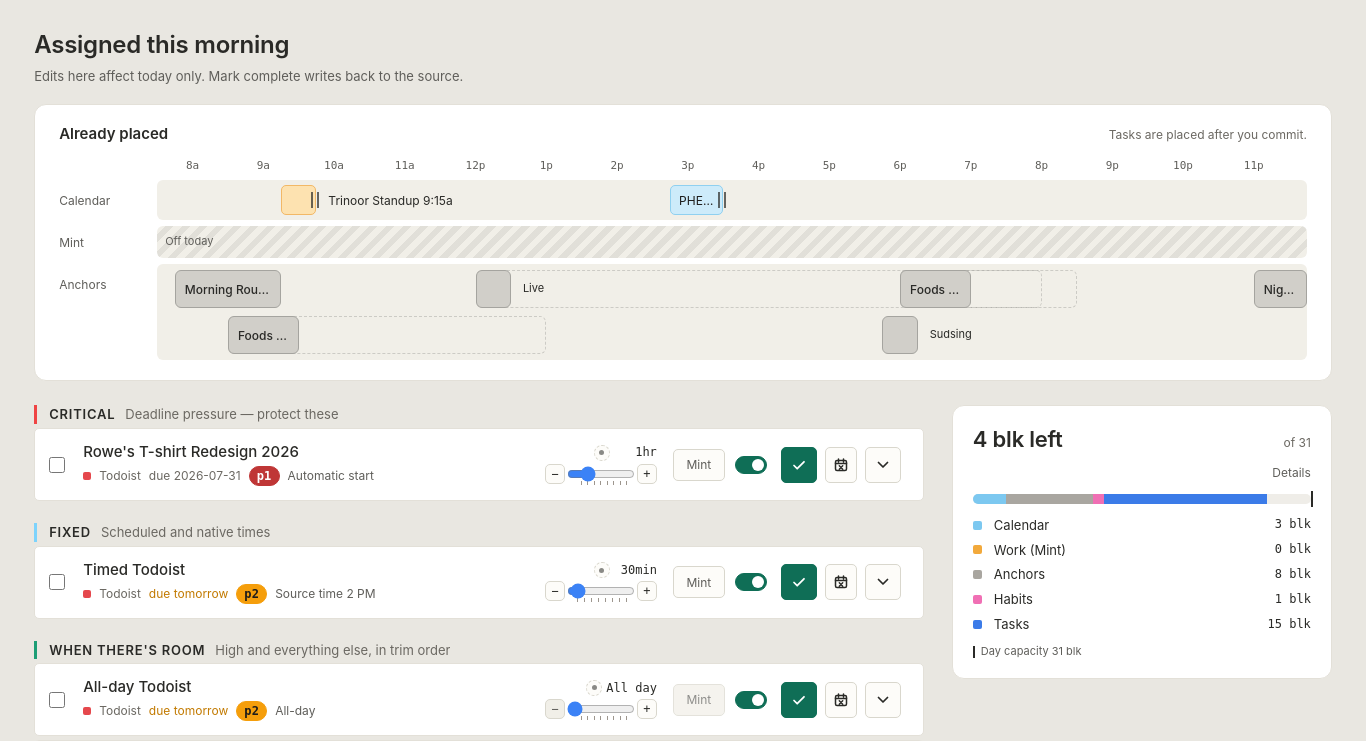
T25 recurring duration shaping › shows the source time only for Todoist rows with a native start
Click the button named "Expand" in the row of "Source time 2 PM" at (883, 582), box [865,564,901,600]
(page scrolled)
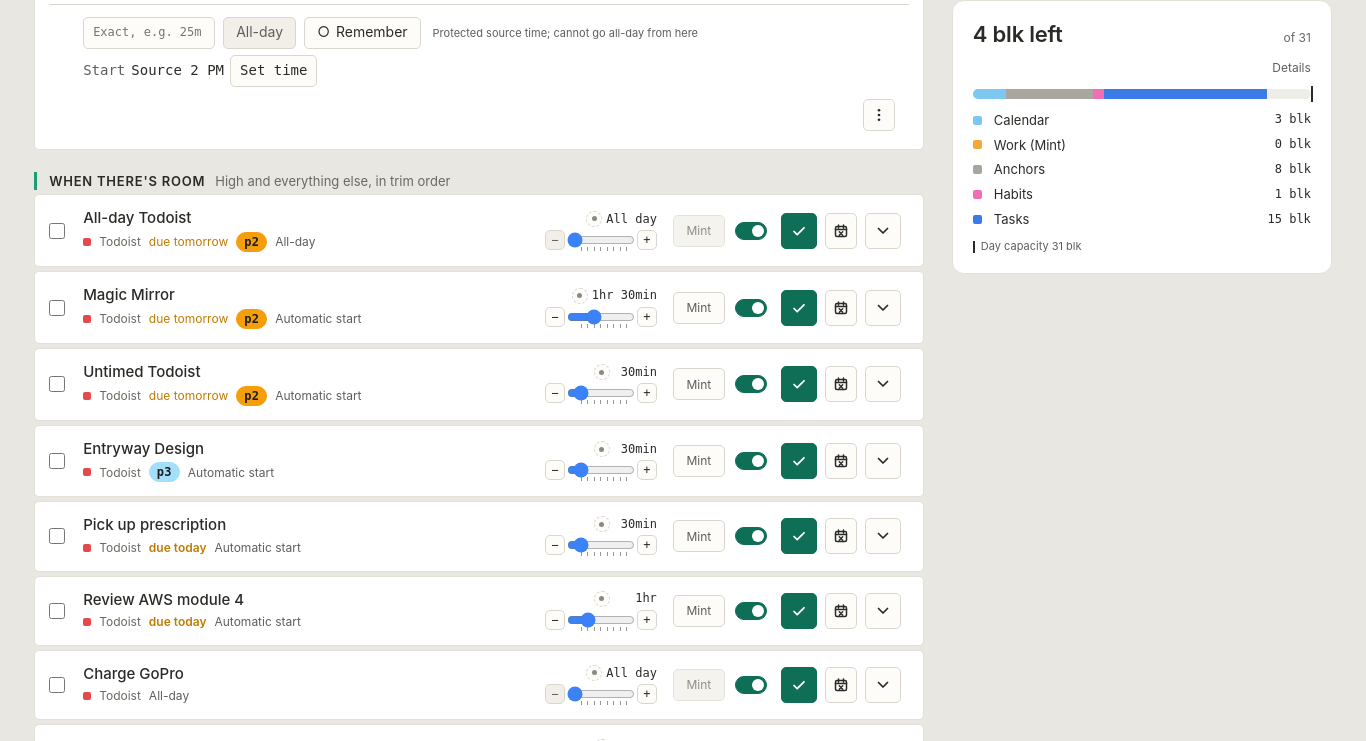
Check: the element with class "trow__start" shows "Source 2 PM", box [83,55,317,87]
Click the button named "Expand" in the row of "Untimed Todoist" at (883, 384), box [865,366,901,402]
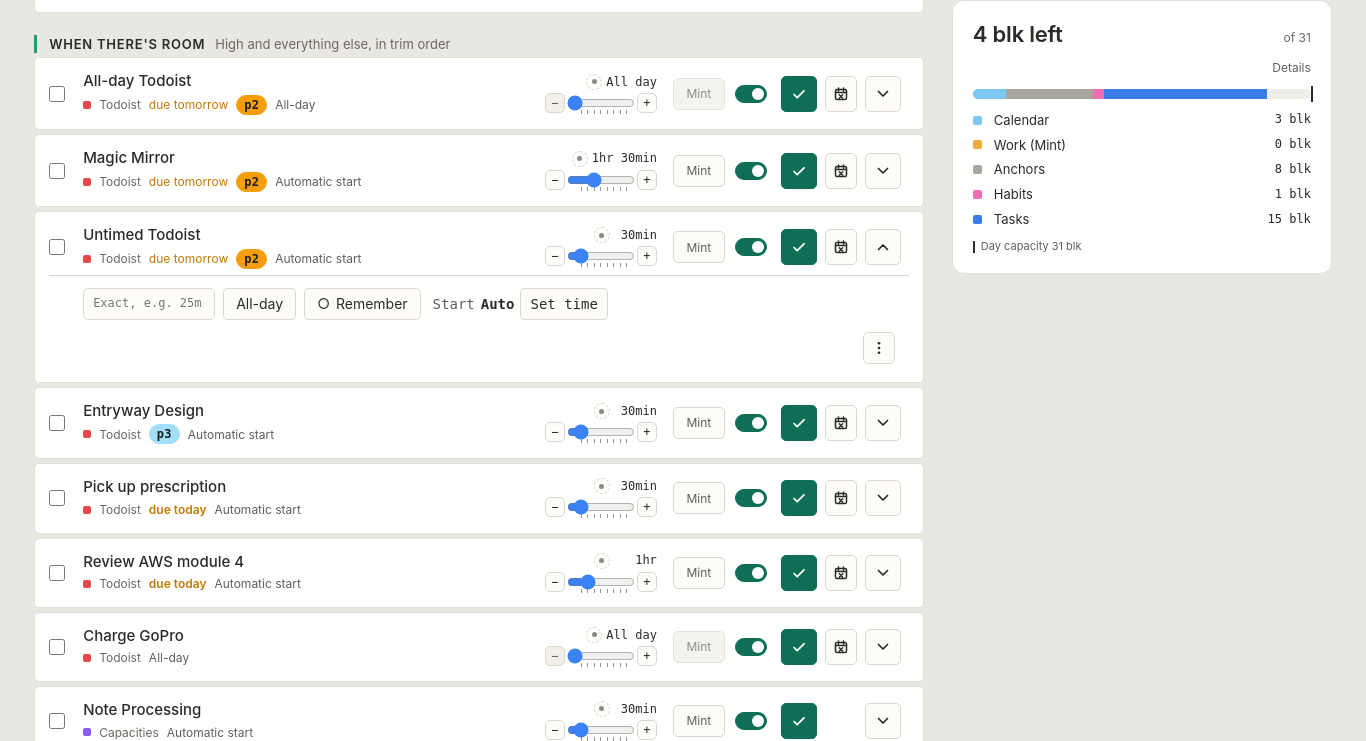
Check: the element with class "trow__start" does not show "Source"
Check: the element with class "trow__start" shows "Auto", box [481,296,514,312]
Click the button named "Expand" in the row of "All-day Todoist" at (883, 94), box [865,76,901,112]
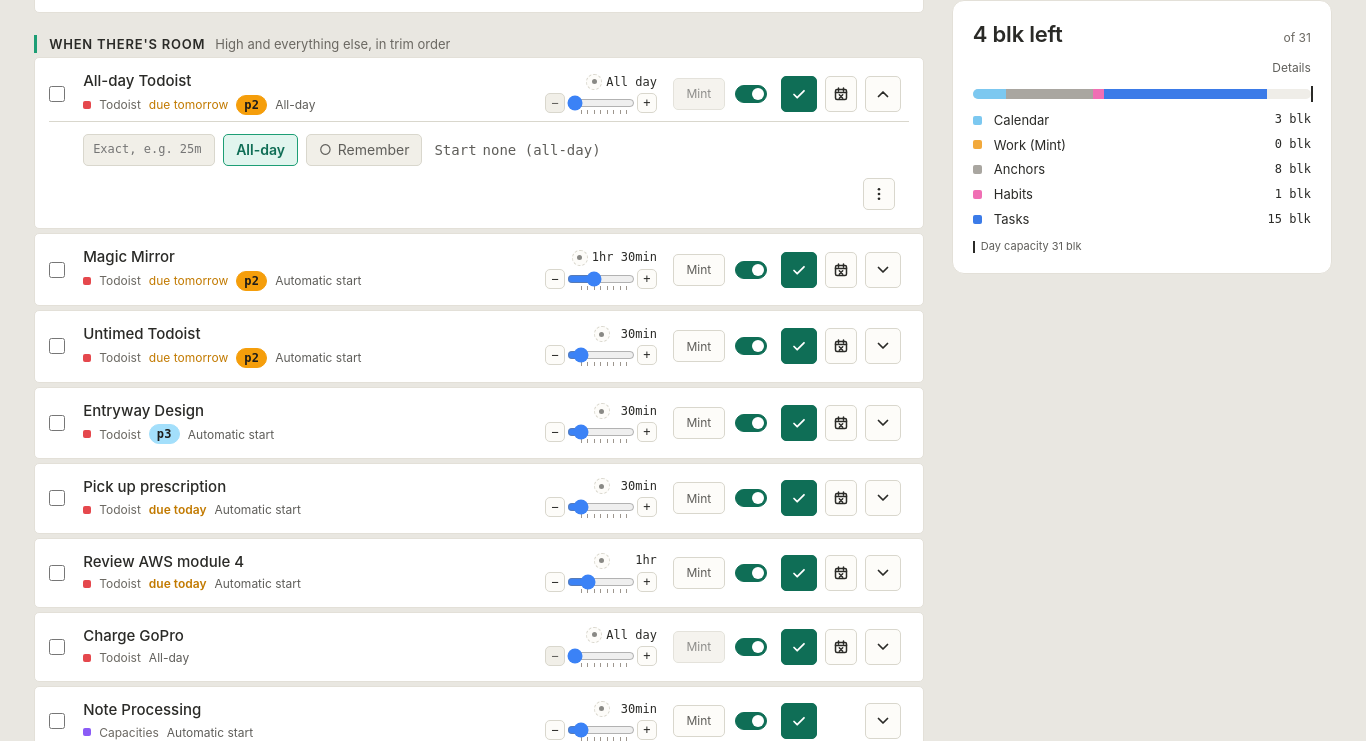
Check: the element with class "trow__start" shows "none (all-day)", box [483,142,601,158]
